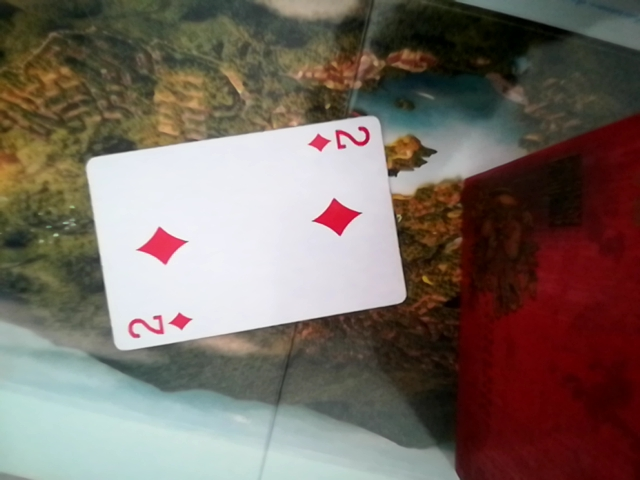fk 2: (86, 112, 409, 346)
